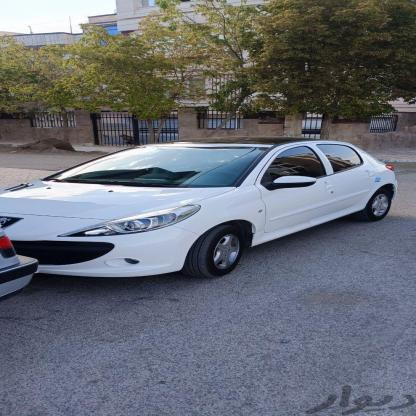Car: (0, 123, 414, 279)
